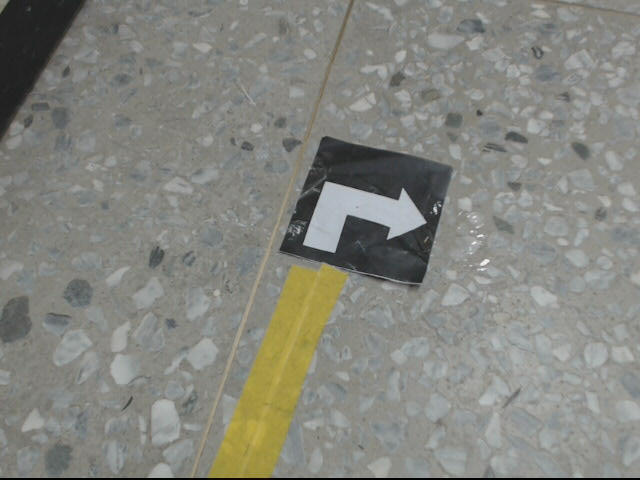right: (279, 135, 453, 286)
